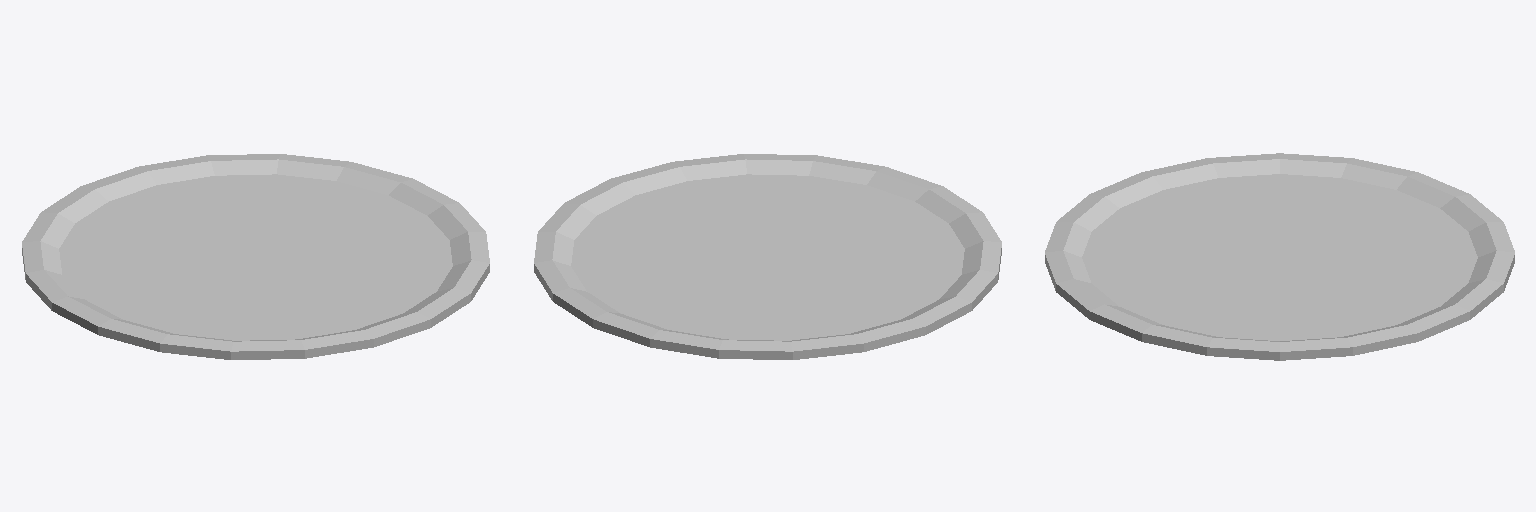
The model's file is plate.obj.
The picture shows the model from 3 angles: view 1: azimuth 30°, elevation 25°; view 2: azimuth 150°, elevation 25°; view 3: azimuth 270°, elevation 25°; orthographic projection.
Parts seen in each view (by area): view 1: pCylinder3; view 2: pCylinder3; view 3: pCylinder3.
Part boxes in pixels (x1,y1,x2,y2): pCylinder3: (22, 154, 489, 359); pCylinder3: (534, 154, 1001, 359); pCylinder3: (1045, 153, 1514, 360).
Size of the model in its own units: 0.9024 by 0.0229 by 0.9024.